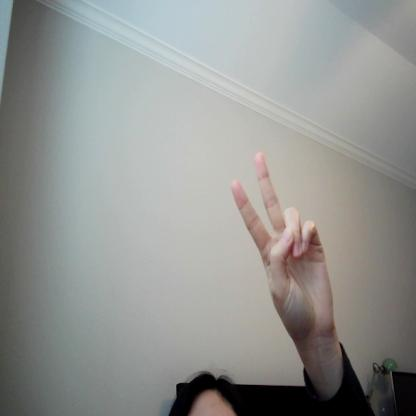two: (233, 149, 334, 337)
